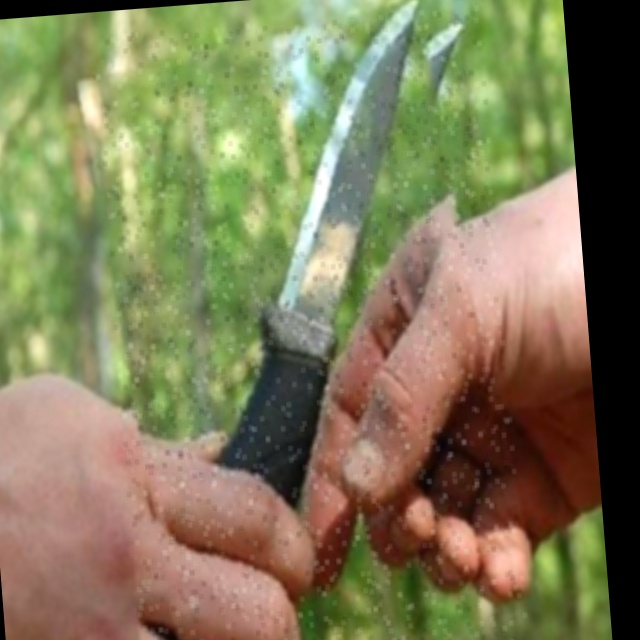Sharp-Object: (93, 7, 530, 640)
